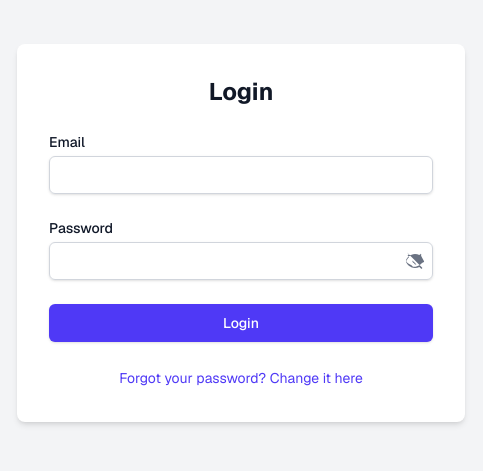
Scenario: LoginPage › should show an error if email is missing
The width and height of the screenshot is (483, 471).
Click the button "Login" at (241, 323), box [49,304,433,342]
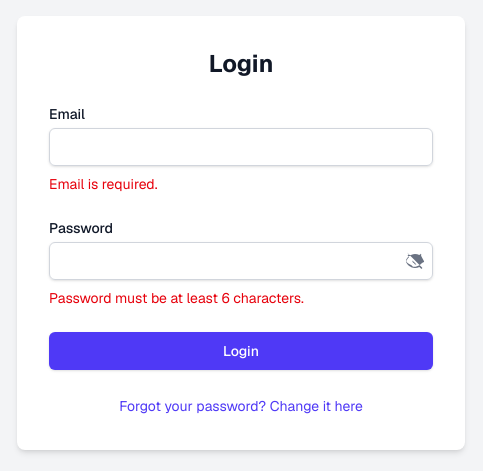
Result: the text "Email is required." is shown at [49,175,158,193]
